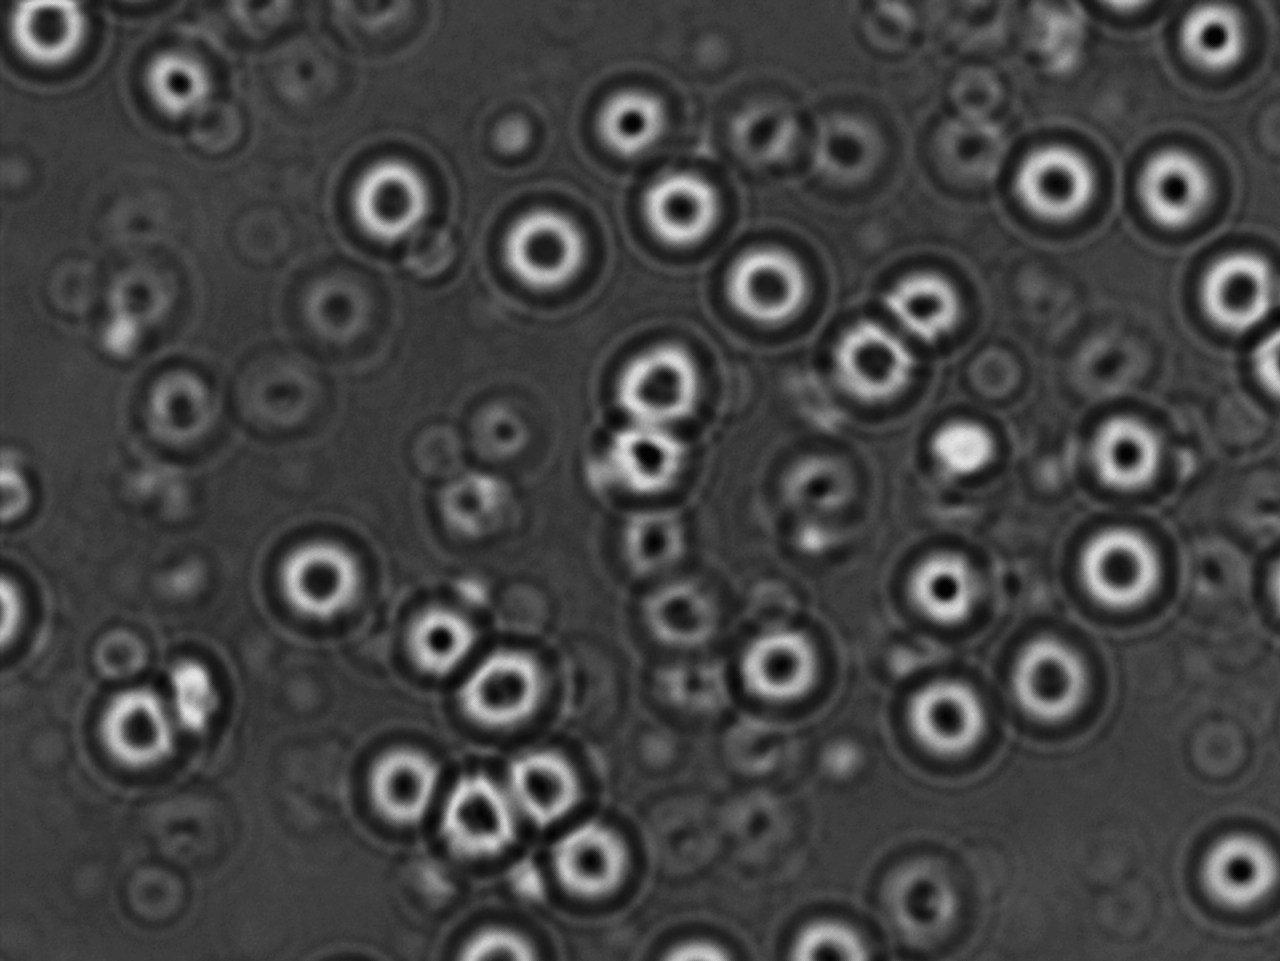depth:16: (990, 117, 1126, 246), (1112, 111, 1240, 246), (247, 515, 380, 641), (478, 183, 605, 310), (1057, 511, 1181, 639), (328, 136, 460, 253), (704, 226, 828, 347), (81, 678, 208, 796), (883, 661, 1005, 783), (623, 138, 743, 256), (987, 625, 1101, 749), (440, 632, 565, 745), (369, 570, 489, 685), (500, 732, 625, 840), (1183, 210, 1280, 349), (591, 320, 712, 430), (810, 301, 928, 413), (123, 25, 245, 133), (569, 57, 688, 167), (867, 245, 982, 357), (582, 409, 699, 520), (420, 759, 537, 868), (342, 724, 458, 832), (887, 527, 999, 635), (721, 612, 831, 720), (540, 808, 653, 912), (1078, 401, 1189, 506), (1185, 817, 1280, 926), (768, 897, 898, 961)
